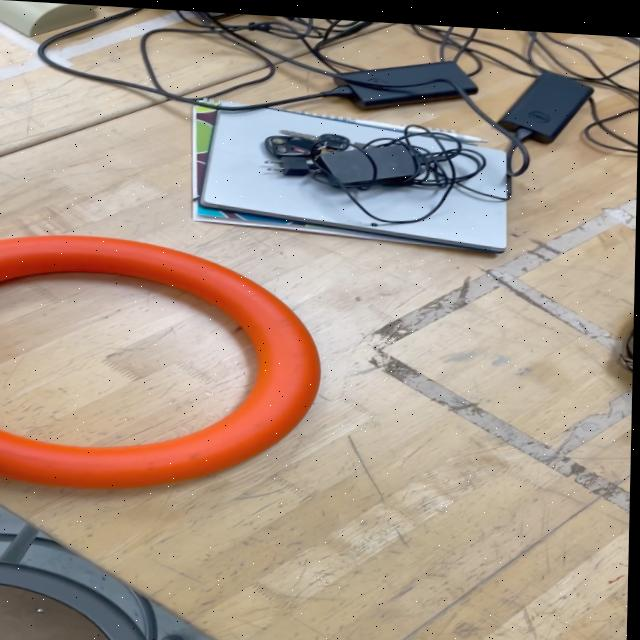note: (0, 229, 326, 499)
